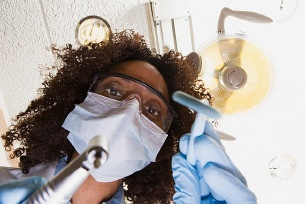Mask: (77, 75, 179, 177)
